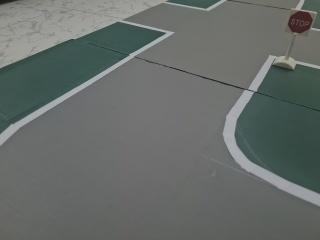stop: (284, 6, 315, 38)
